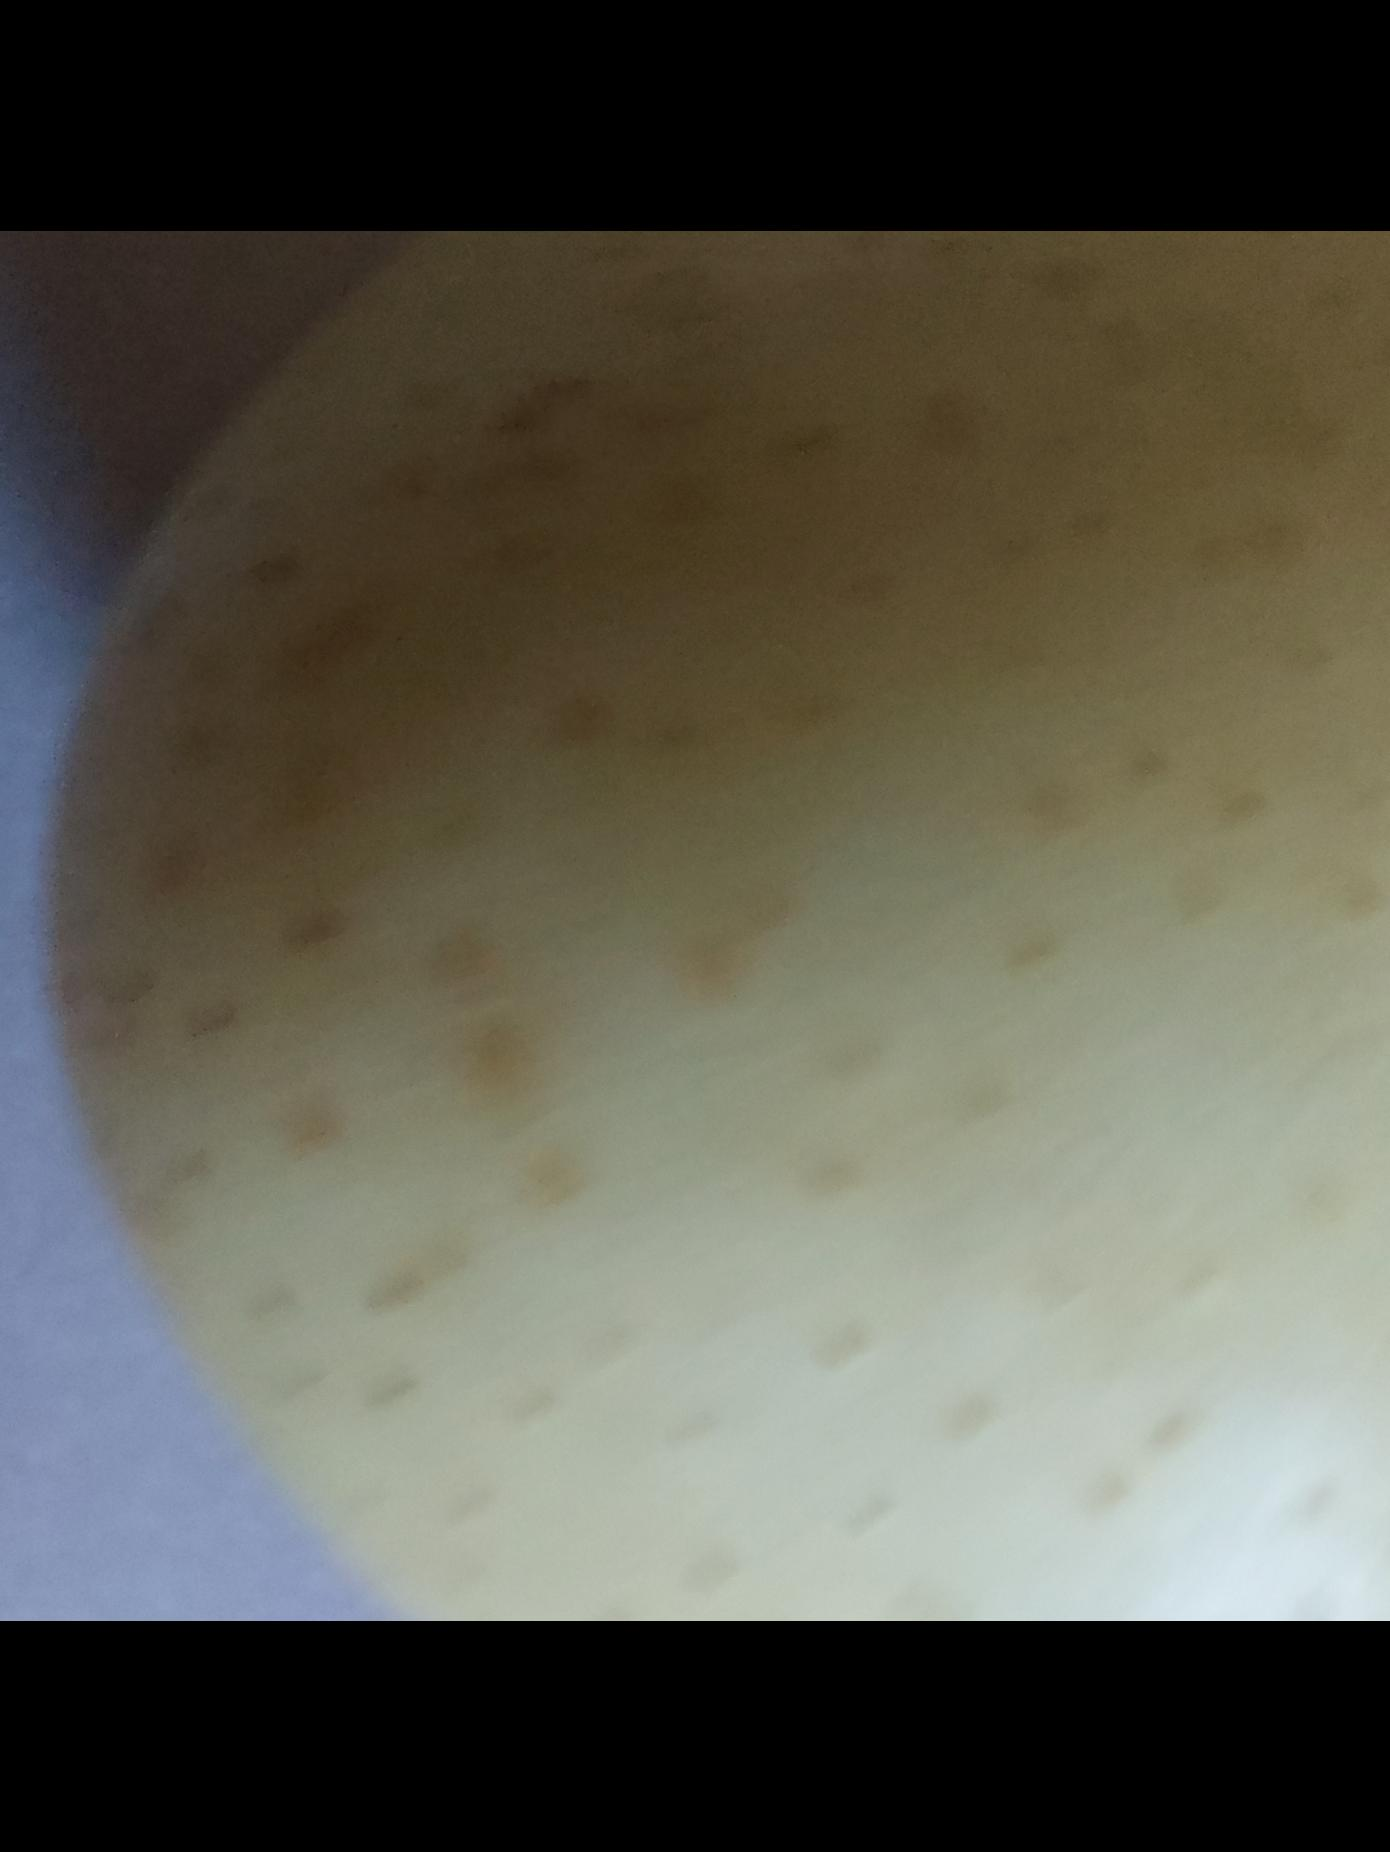Good Pear: (31, 231, 1390, 1621)
